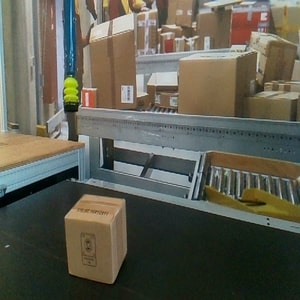box: (63, 193, 128, 285)
